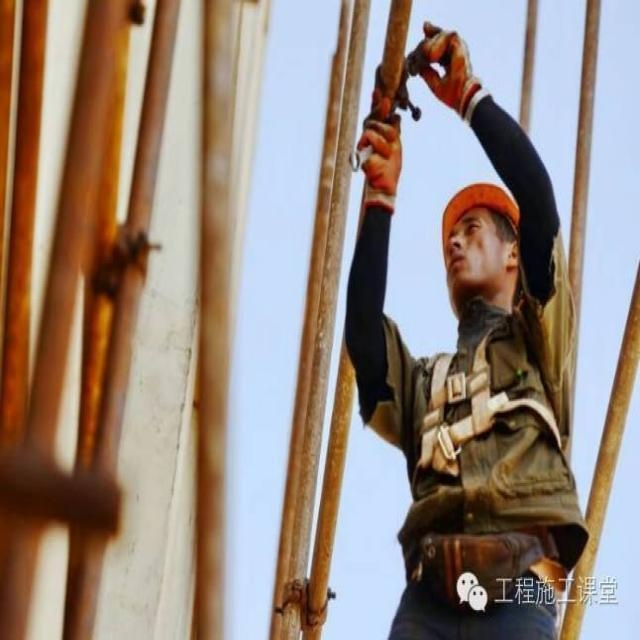Arnes_seguridad: (411, 329, 570, 498)
